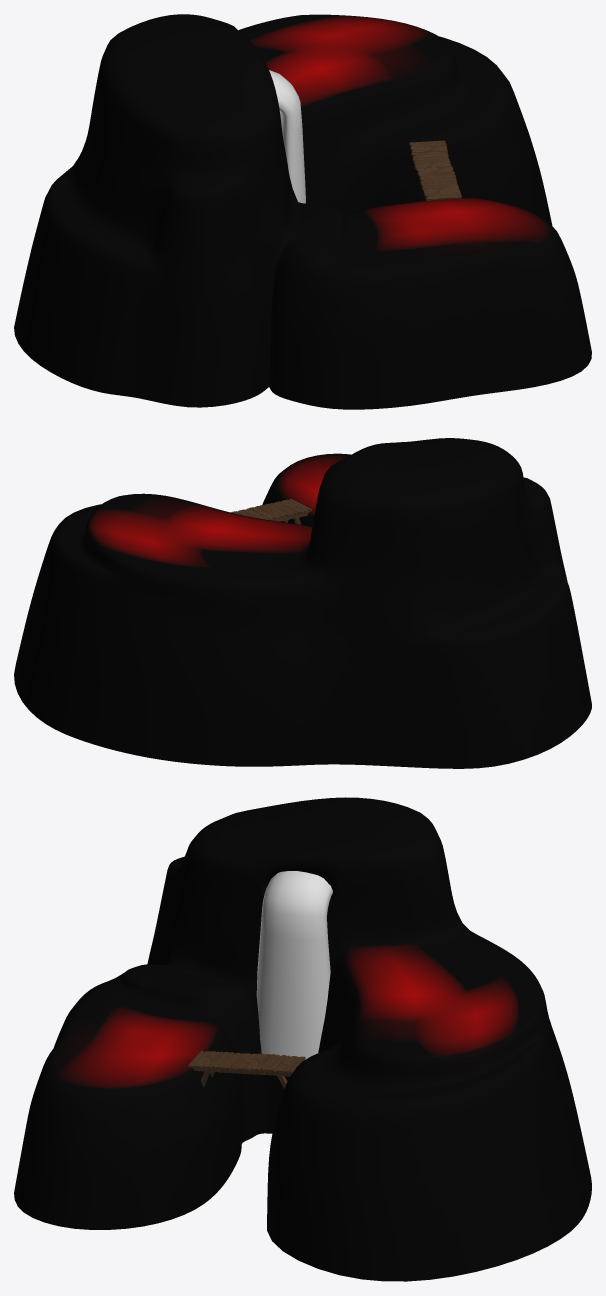
File: terrain.glb
The picture shows the model from 3 angles, top to bottom: view 1: azimuth 30°, elevation 25°; view 2: azimuth 150°, elevation 25°; view 3: azimuth 270°, elevation 25°; orthographic projection. The views are drawn at different scales.
Visible parts, largest first — view 1: main_ground, waterfall, bridge; view 2: main_ground, bridge; view 3: main_ground, waterfall, bridge.
Boxes of the visible parts, x1=… form: main_ground: x1=14, y1=14, x2=591, y2=409; waterfall: x1=269, y1=70, x2=305, y2=203; bridge: x1=409, y1=140, x2=461, y2=200; main_ground: x1=14, y1=438, x2=591, y2=768; bridge: x1=230, y1=499, x2=311, y2=524; main_ground: x1=14, y1=797, x2=591, y2=1281; waterfall: x1=256, y1=871, x2=332, y2=1059; bridge: x1=188, y1=1050, x2=305, y2=1088.
Bounding box in the file's own units: 51.32 × 24.21 × 46.78.
1 material, 1 textured.
